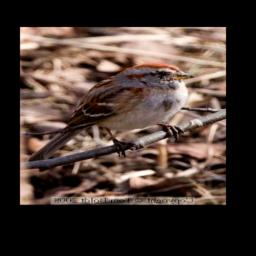Sparrow: (26, 60, 196, 173)
